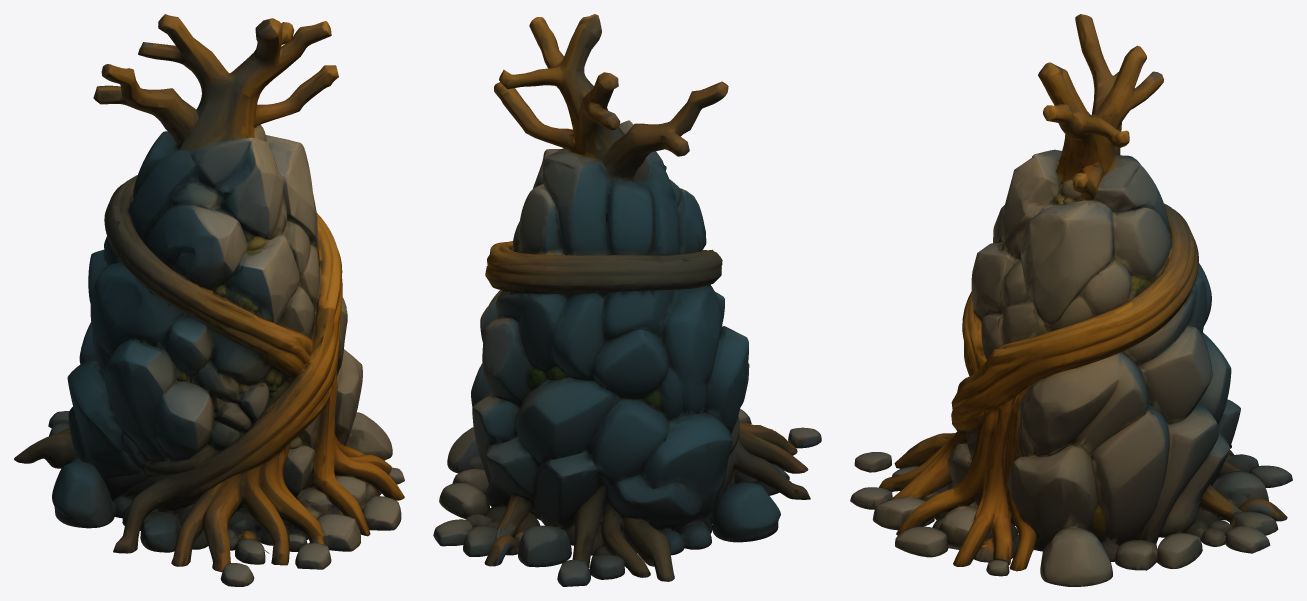
The model's file is roots1.glb.
3 renders of one model, left to right at view 1: azimuth 30°, elevation 25°; view 2: azimuth 150°, elevation 25°; view 3: azimuth 270°, elevation 25°, orthographic.
Parts seen in each view (by area): view 1: node_0; view 2: node_0; view 3: node_0.
Boxes of the visible parts, x1=… form: node_0: x1=14, y1=14, x2=404, y2=586; node_0: x1=433, y1=14, x2=821, y2=586; node_0: x1=850, y1=14, x2=1292, y2=586.
Bounding box in the file's own units: 0.6443 × 0.8768 × 0.7617.
1 material, 1 textured.
